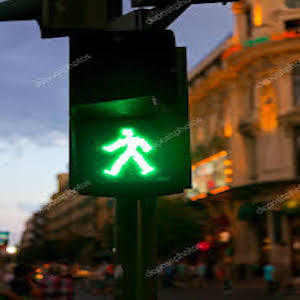green: (96, 123, 163, 184)
